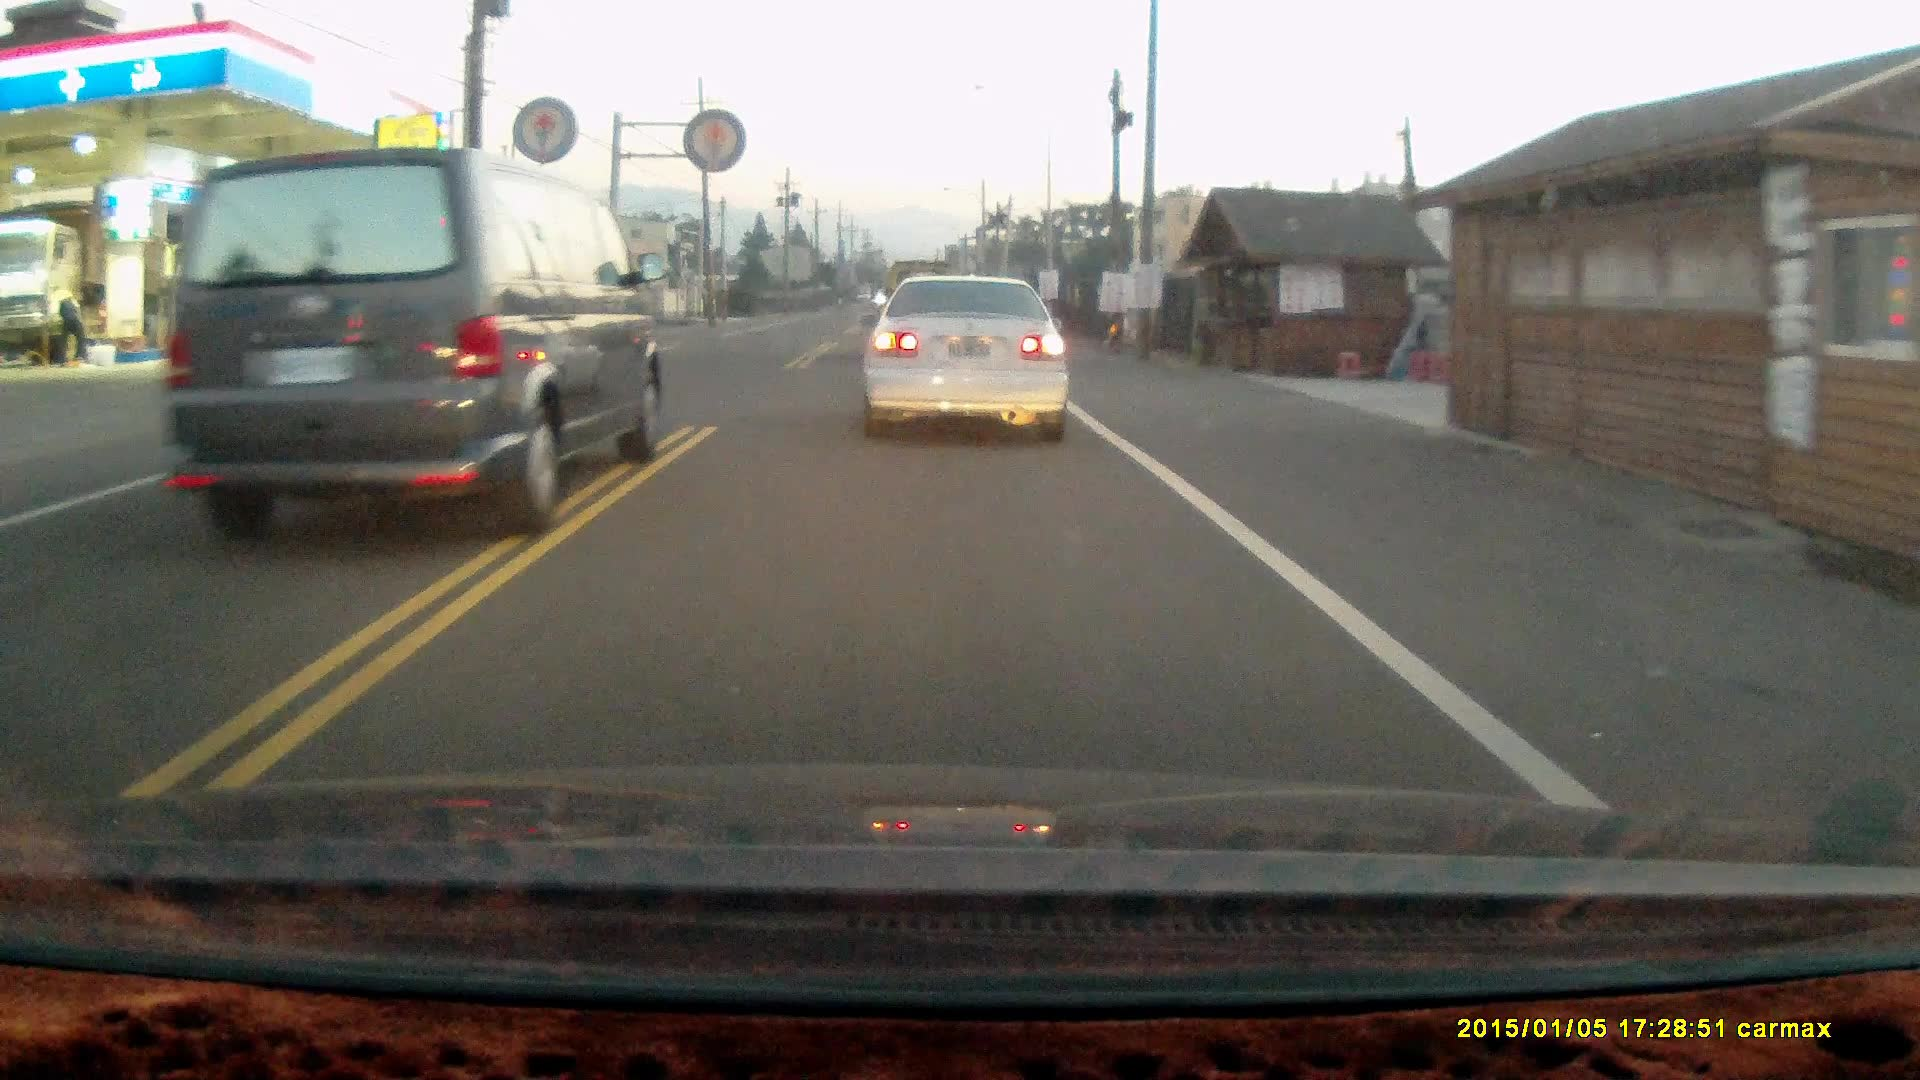pedestrian: (52, 280, 89, 367)
vehicle: (167, 152, 661, 555), (863, 280, 1071, 455), (1, 198, 142, 366)
